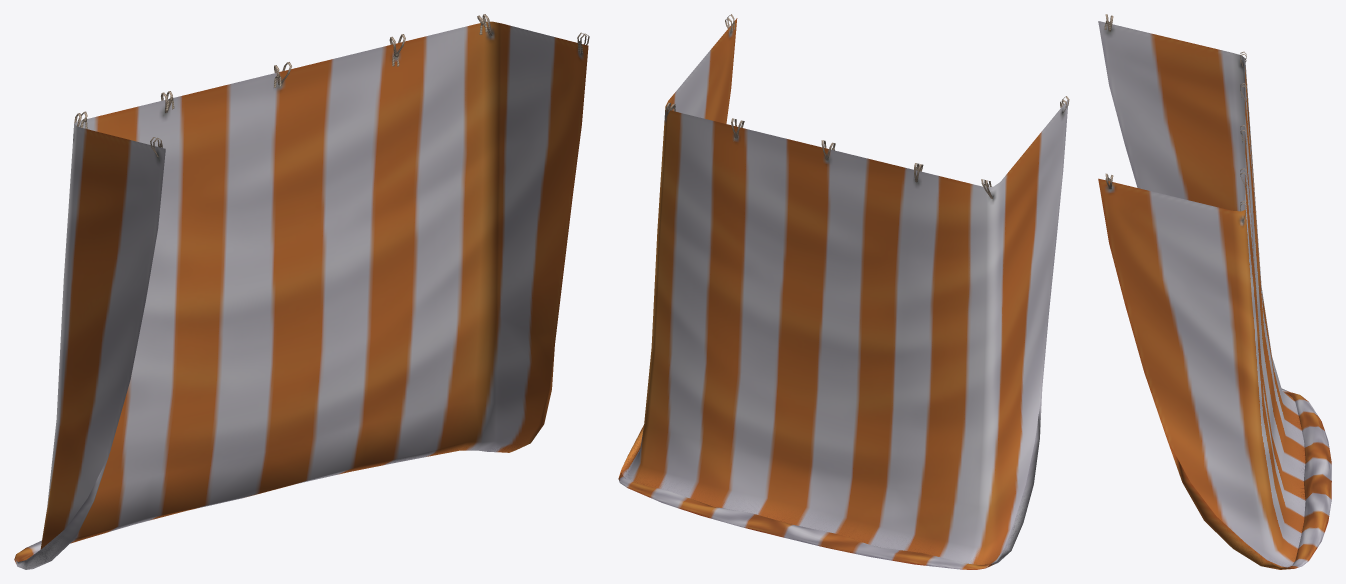
The model's file is jsf_BackSide_s01_c04_t01.fbx.
3 views of the same model, side by side, from view 1: azimuth 30°, elevation 25°; view 2: azimuth 150°, elevation 25°; view 3: azimuth 270°, elevation 25° (orthographic). The views are drawn at different scales.
Visible parts, largest first — view 1: jsf_BackSide_s01_c04_t01; view 2: jsf_BackSide_s01_c04_t01; view 3: jsf_BackSide_s01_c04_t01.
Part boxes in pixels (left/top/right/bottom): jsf_BackSide_s01_c04_t01: left=14, top=14, right=589, bottom=569; jsf_BackSide_s01_c04_t01: left=618, top=14, right=1069, bottom=569; jsf_BackSide_s01_c04_t01: left=1098, top=14, right=1331, bottom=569.
Size of the model in its own units: 207 by 205 by 112.
